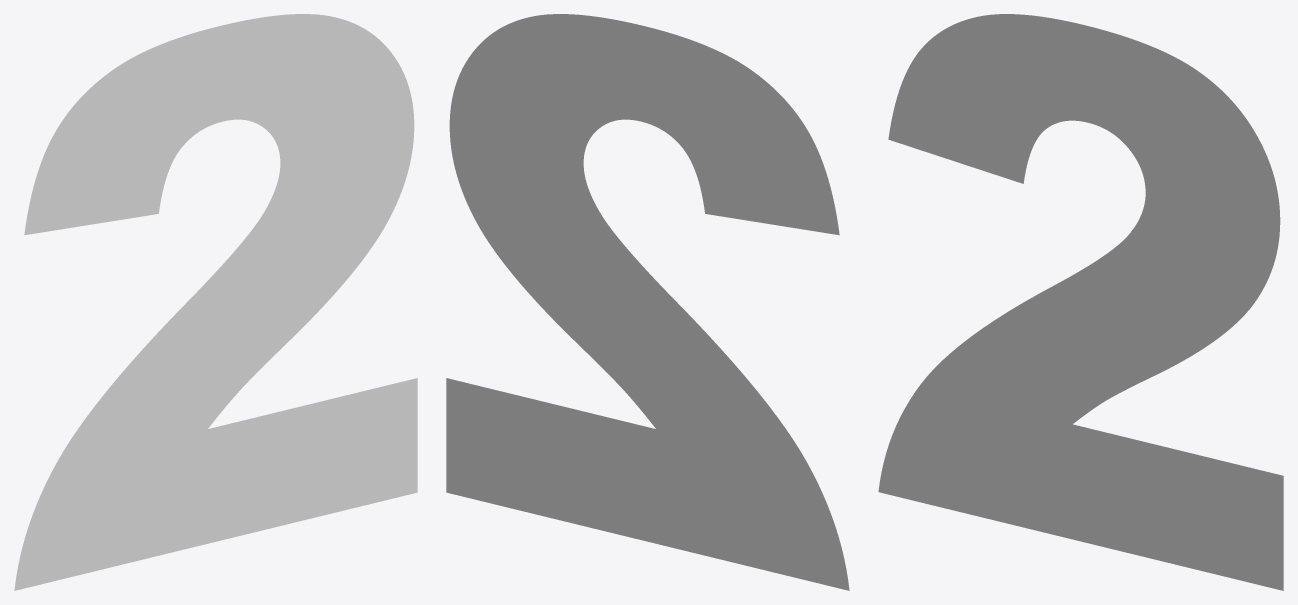
3 renders of one model, left to right at view 1: azimuth 30°, elevation 25°; view 2: azimuth 150°, elevation 25°; view 3: azimuth 330°, elevation 25°, orthographic.
Visible parts, largest first — view 1: テキスト.001; view 2: テキスト.001; view 3: テキスト.001.
Boxes of the visible parts, box(x1,y1,x2,y2) form: テキスト.001: box(14, 14, 417, 590); テキスト.001: box(446, 14, 849, 590); テキスト.001: box(878, 14, 1283, 590).
Size of the model in its own units: 1.29 by 1.57 by 0.
1 material, 1 textured.
